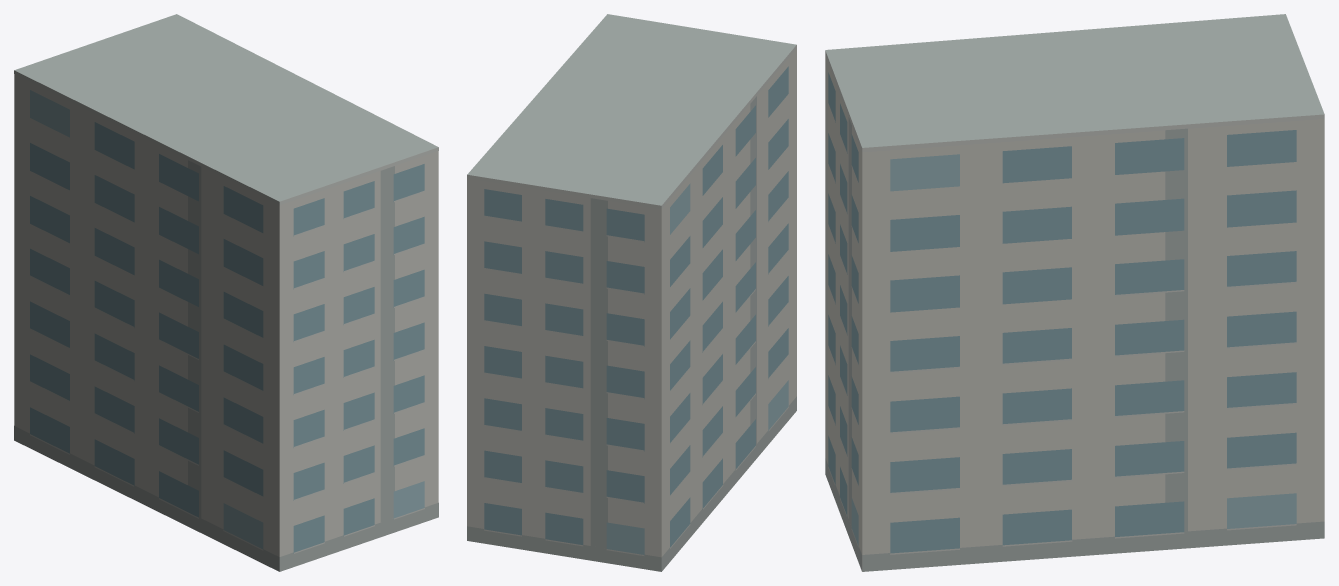
The model's file is survey-upis-32767806.glb.
3 renders of one model, left to right at view 1: azimuth 30°, elevation 25°; view 2: azimuth 150°, elevation 25°; view 3: azimuth 270°, elevation 25°, orthographic. The views are drawn at different scales.
Visible parts, largest first — view 1: survey-upis-32767806.tmp; view 2: survey-upis-32767806.tmp; view 3: survey-upis-32767806.tmp.
Boxes of the visible parts, x1,y1,x2,y2 form: survey-upis-32767806.tmp: (14, 14, 438, 571); survey-upis-32767806.tmp: (467, 14, 796, 571); survey-upis-32767806.tmp: (825, 14, 1324, 571).
Bounding box in the file's own units: 16.48 × 24.3 × 25.96.
